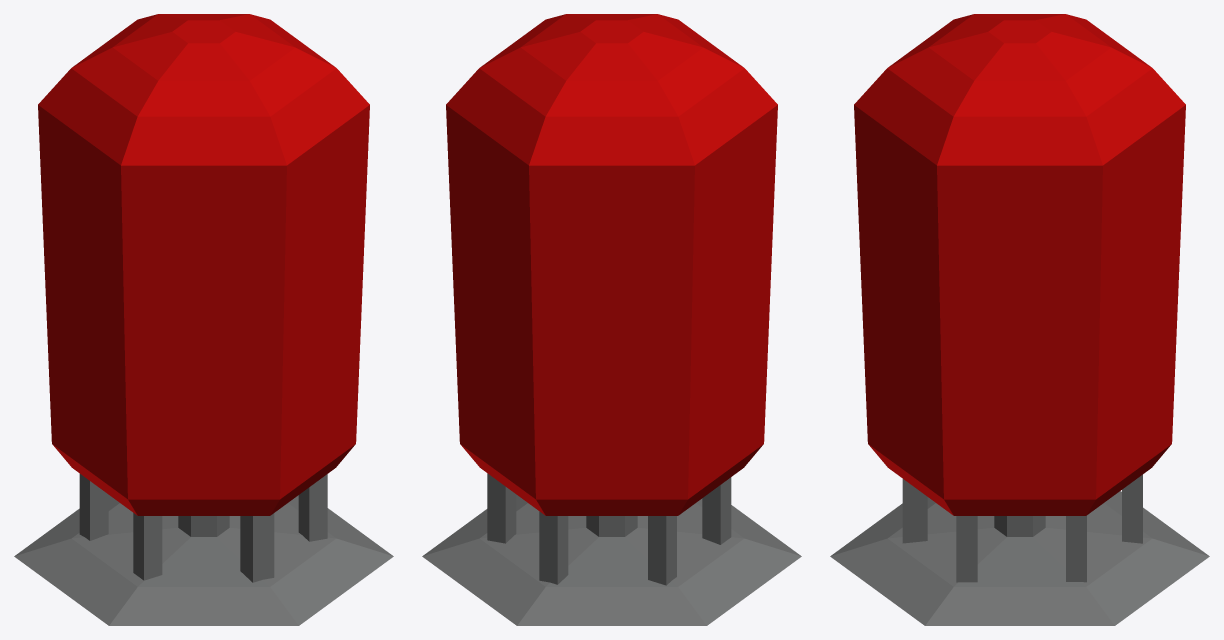
Rendered from hydrogen_tank.glb.
The picture shows the model from 3 angles, left to right: view 1: azimuth 30°, elevation 25°; view 2: azimuth 150°, elevation 25°; view 3: azimuth 270°, elevation 25°; orthographic projection.
Visible parts, largest first — view 1: Circle.004, Cube.024, Cube.029, Cube.025, Cube.028; view 2: Circle.004, Cube.027, Cube.028, Cube.026, Cube.029; view 3: Circle.004, Cube.025, Cube.024, Cube.026, Cube.027.
Part boxes in pixels (bbox=[...]): Circle.004: bbox=[14, 14, 393, 625]; Cube.024: bbox=[240, 513, 274, 582]; Cube.029: bbox=[133, 513, 162, 580]; Cube.025: bbox=[298, 474, 327, 541]; Cube.028: bbox=[79, 474, 108, 540]; Circle.004: bbox=[422, 14, 801, 625]; Cube.027: bbox=[539, 511, 568, 584]; Cube.028: bbox=[648, 516, 676, 585]; Cube.026: bbox=[487, 473, 516, 543]; Cube.029: bbox=[702, 477, 731, 544]; Circle.004: bbox=[830, 14, 1209, 625]; Cube.025: bbox=[956, 516, 977, 582]; Cube.024: bbox=[902, 479, 927, 543]; Cube.026: bbox=[1066, 515, 1086, 582]; Cube.027: bbox=[1122, 474, 1142, 543].
Bounding box in the file's own units: 0.866 × 1.52 × 1.
